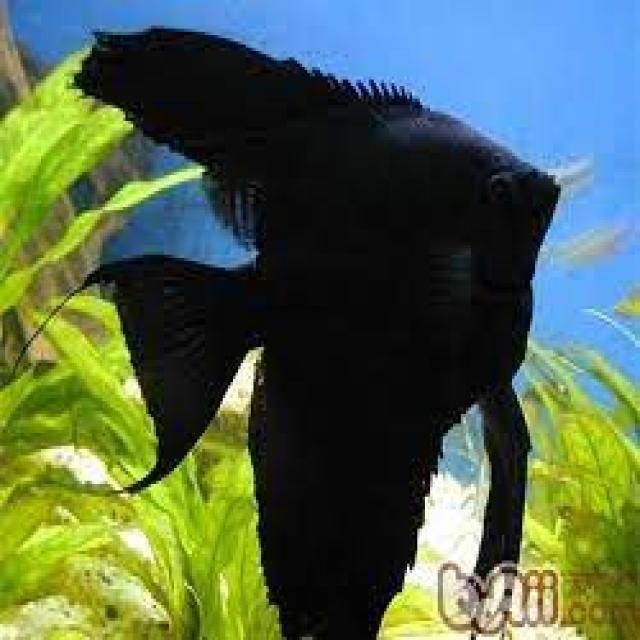AngelFish: (74, 15, 562, 640)
